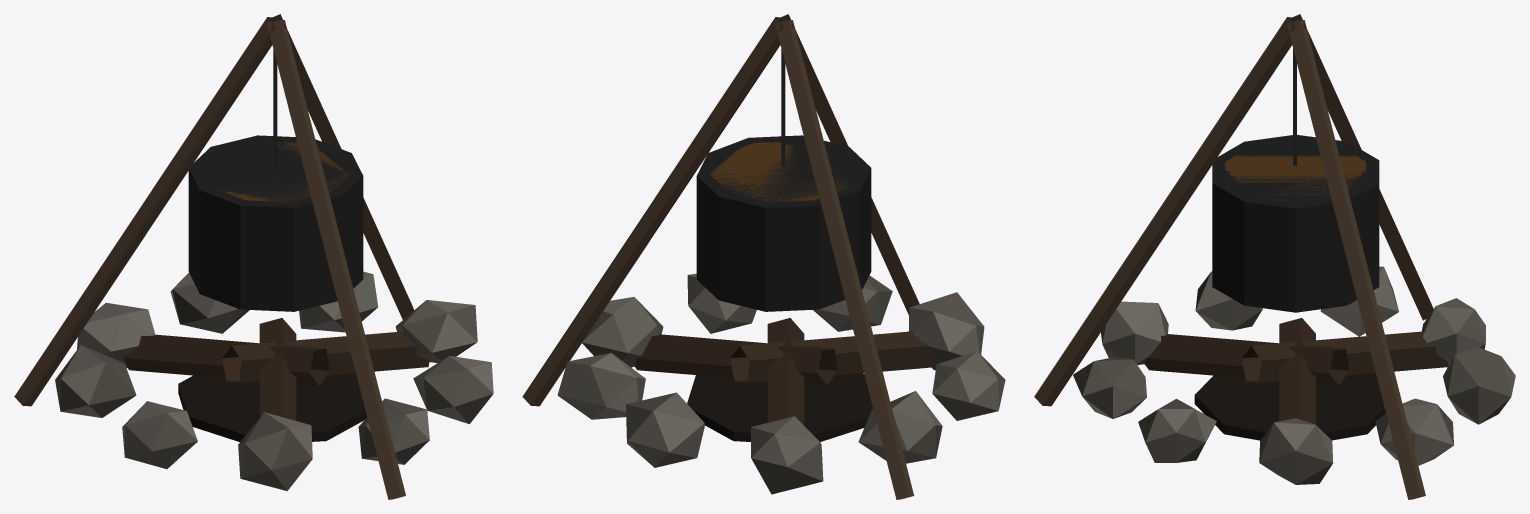
Rendered from fr_fire.glb.
The picture shows the model from 3 angles, left to right: view 1: azimuth 30°, elevation 25°; view 2: azimuth 150°, elevation 25°; view 3: azimuth 270°, elevation 25°; orthographic projection.
Parts seen in each view (by area): view 1: fr_fire; view 2: fr_fire; view 3: fr_fire.
Boxes of the visible parts, bbox=[...] form: fr_fire: bbox=[14, 14, 493, 499]; fr_fire: bbox=[522, 14, 1005, 499]; fr_fire: bbox=[1034, 14, 1515, 499].
Size of the model in its own units: 1.35 by 1.28 by 1.43.
